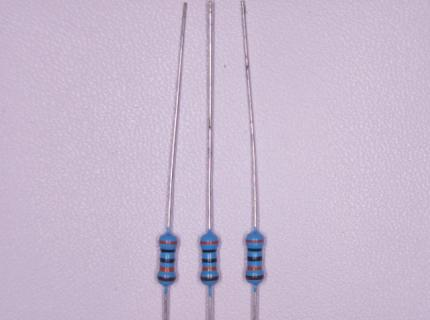Black band: (160, 248, 175, 253), (160, 258, 175, 263), (247, 256, 262, 261), (202, 258, 217, 263), (247, 248, 262, 252), (202, 249, 216, 253)
Brown band: (157, 276, 176, 281), (200, 276, 219, 281), (245, 275, 264, 280)
Orange band: (160, 265, 174, 272), (159, 240, 177, 245), (200, 240, 218, 245), (247, 265, 262, 270), (246, 239, 264, 243), (202, 267, 217, 271)
